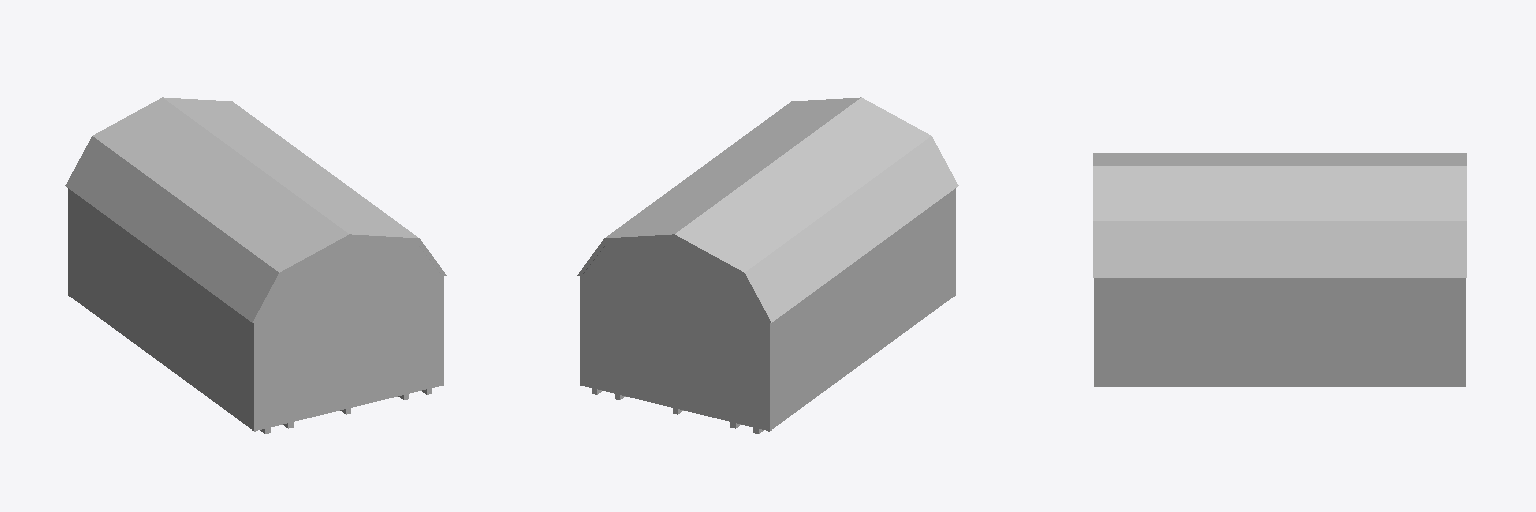
File: Dutch Barn_12x20.obj
3 views of the same model, side by side, from view 1: azimuth 30°, elevation 25°; view 2: azimuth 150°, elevation 25°; view 3: azimuth 270°, elevation 25° (orthographic).
Parts seen in each view (by area): view 1: Dutch Barn_12x20.obj; view 2: Dutch Barn_12x20.obj; view 3: Dutch Barn_12x20.obj.
Boxes of the visible parts, box(x1,y1,x2,y2) form: Dutch Barn_12x20.obj: box(65, 97, 446, 433); Dutch Barn_12x20.obj: box(577, 97, 958, 433); Dutch Barn_12x20.obj: box(1093, 153, 1466, 386).
Bounding box in the file's own units: 3.69 × 3.27 × 6.15.